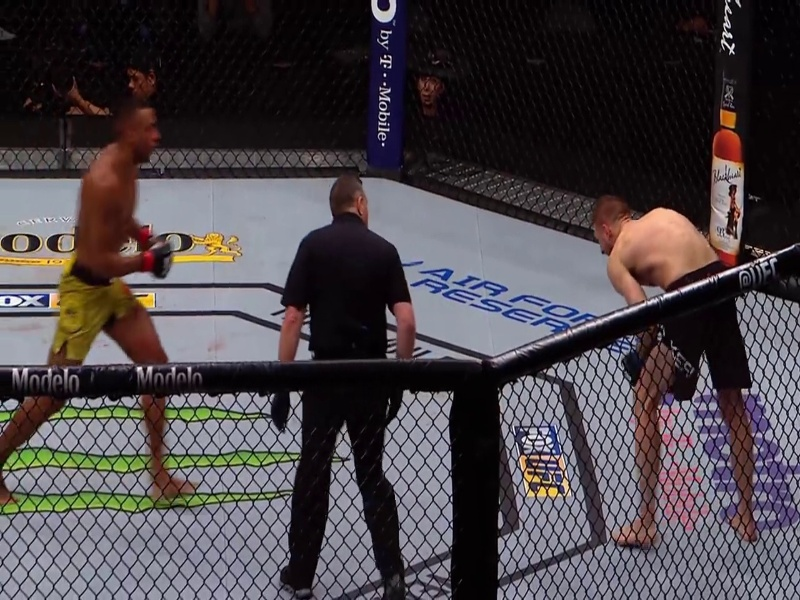fighter: (2, 93, 214, 519), (570, 188, 773, 555)
